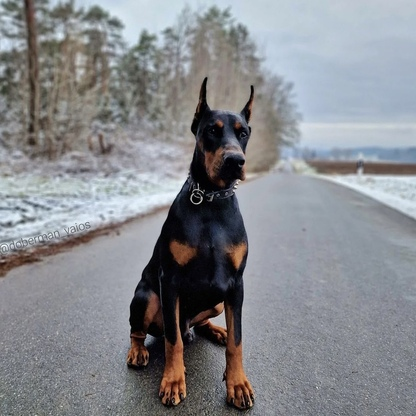doberman: (123, 76, 259, 410)
